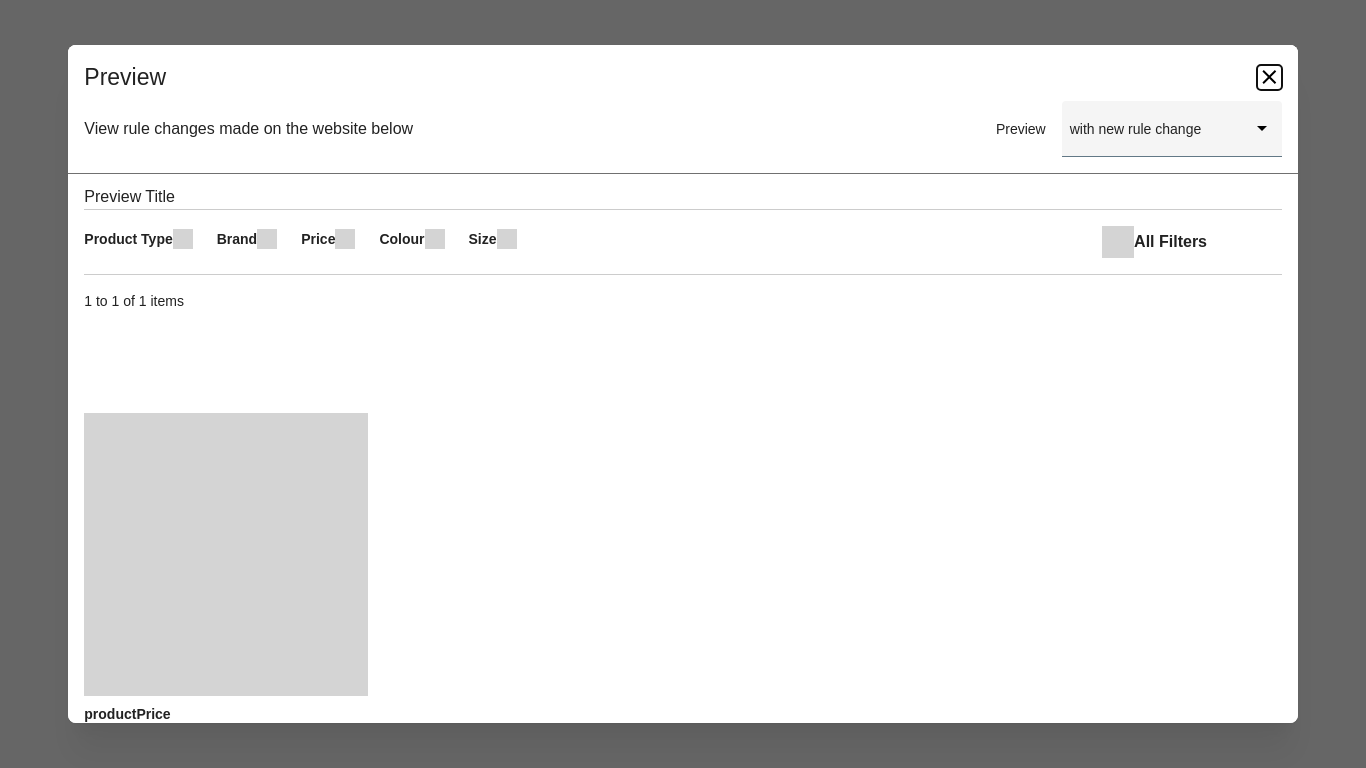
Scenario: Preview › should show side by side option with both current and new rule products
Click the button "with new rule change" at (1172, 129), box [1062,101,1282,157]
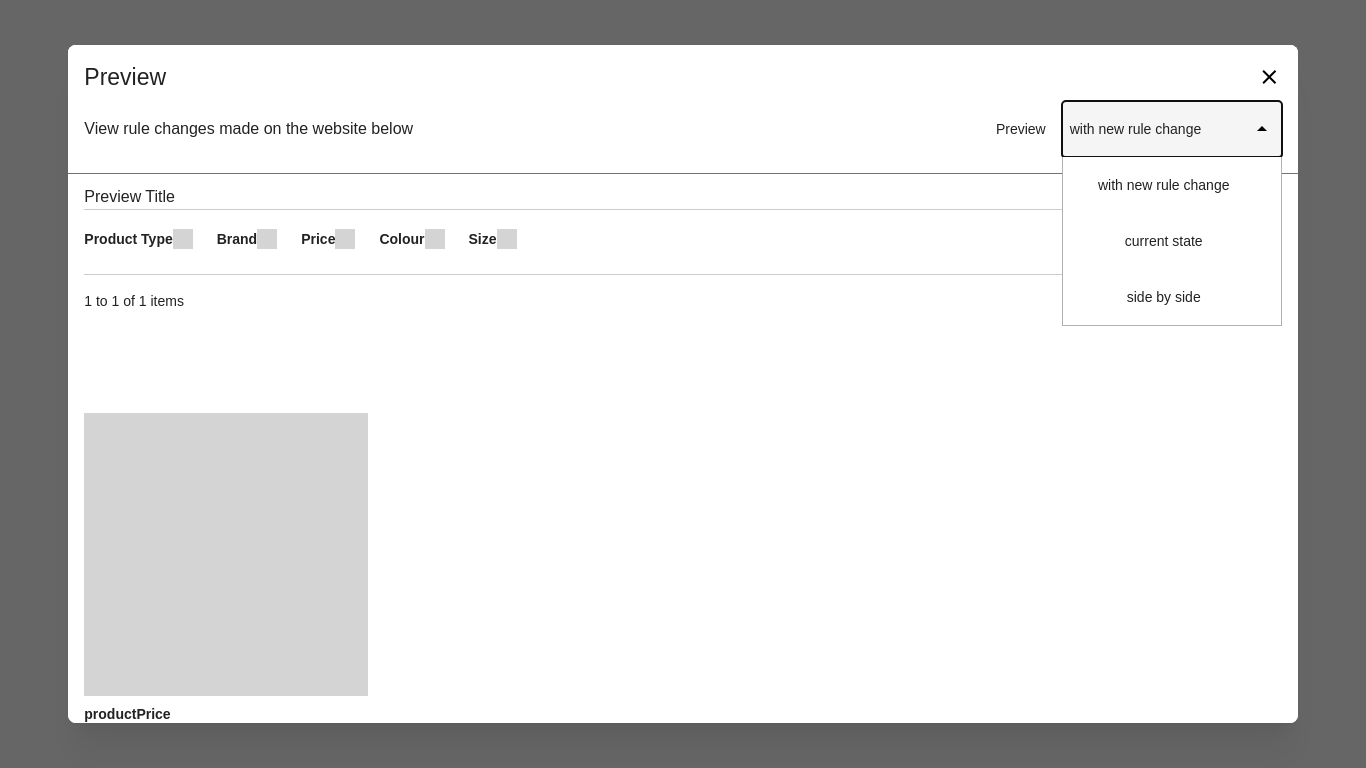
Click the menu item "side by side" at (1172, 297), box [1063,269,1281,325]
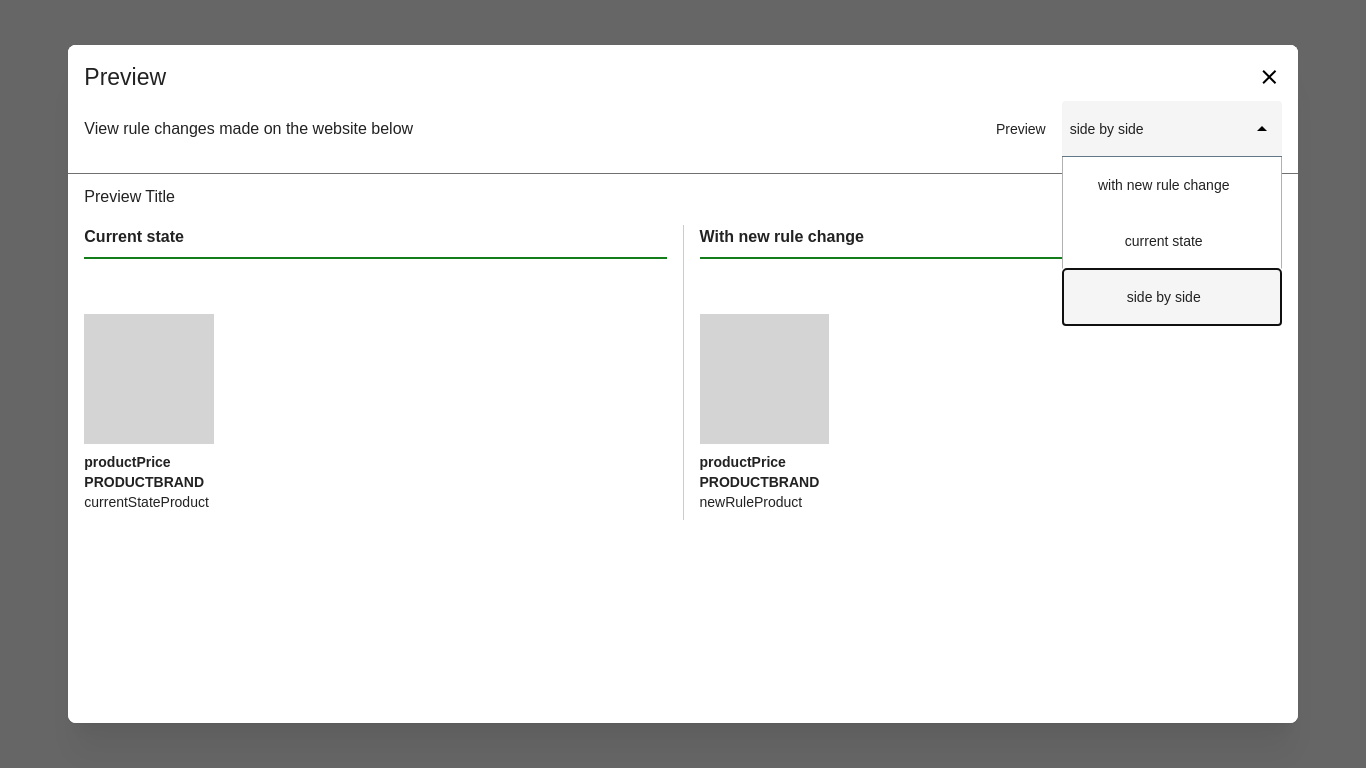
Check: the text "With new rule change" is shown, box [700,225,1282,259]
Check: the 1st text "side by side" is shown, box [1070,118,1144,138]
Check: the text "Current state" is shown, box [84,225,666,259]
